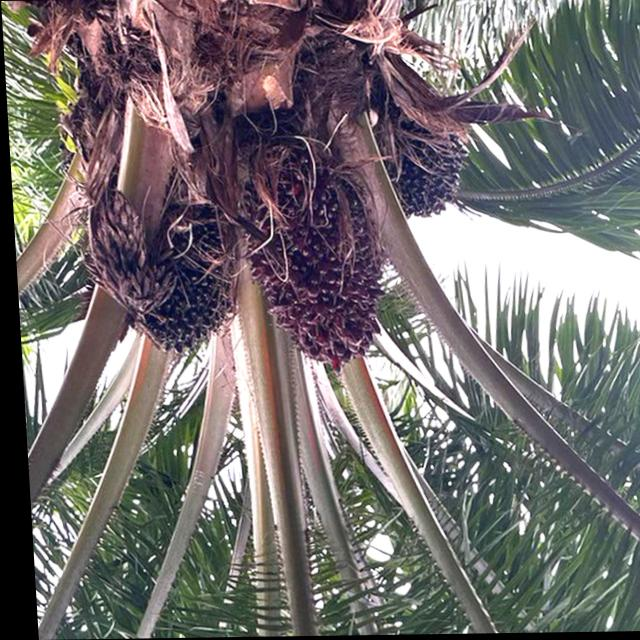ripe: (225, 144, 398, 387)
